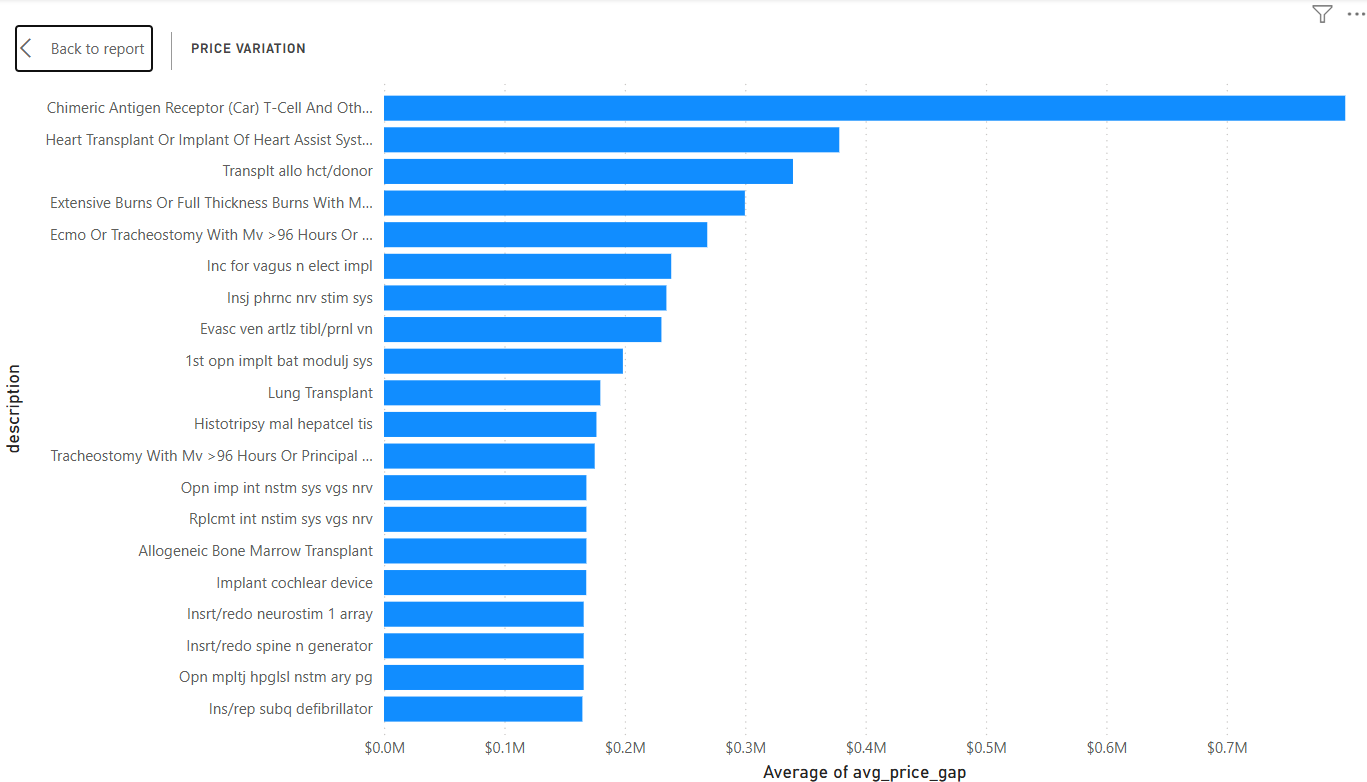

This screenshot's page, from the dashboard's own definition file:
{"tool":"powerbi","page":{"name":"Price Variation","canvas":[1280,720],"ordinal":1},"visuals":[{"type":"clusteredBarChart","title":"Price Variation","fields":{"Category":["price_variation_by_procedure.description"],"Y":["Avg(price_variation_by_procedure.avg_price_gap)"]},"box":[9.6,0,1270.7,720.4],"z":0}]}

Visuals, with their boxes on the page's 1280x720 design canvas (x1, y1, x2, y2). These are canvas units, not pixel positions in the 1367x782 screenshot, which may show the page scaled, cropped or inside an application window:
"Price Variation" clusteredBarChart: 10, 0, 1280, 720
